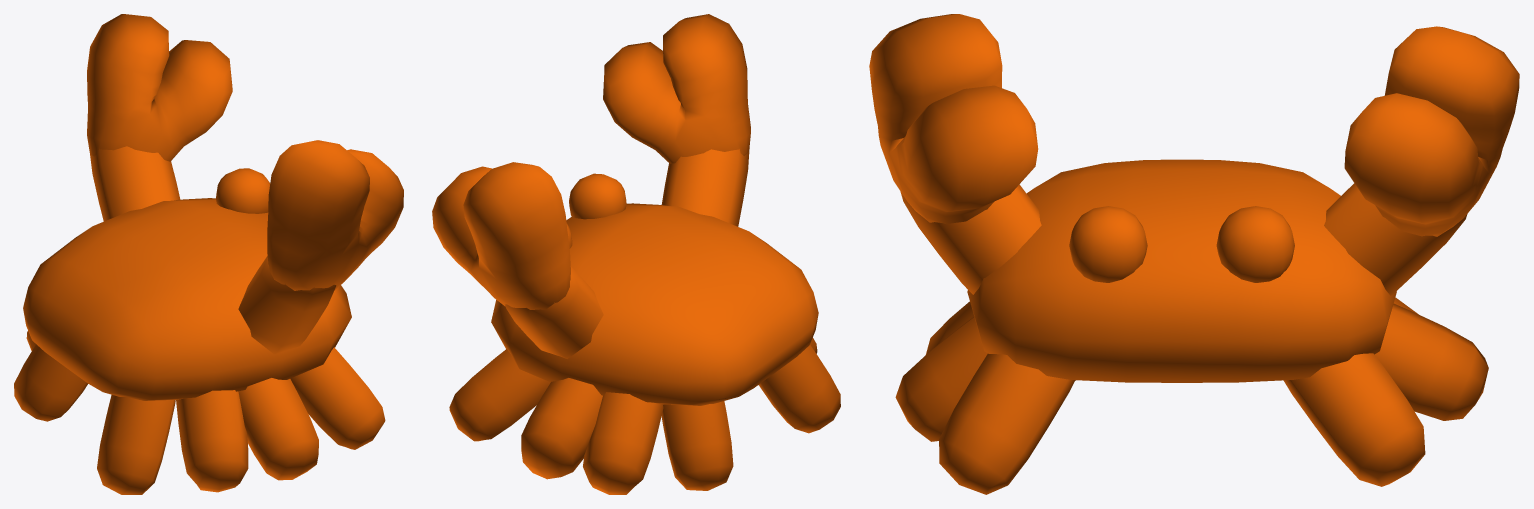
File: KM_Crab01.fbx
The picture shows the model from 3 angles, left to right: view 1: azimuth 30°, elevation 25°; view 2: azimuth 150°, elevation 25°; view 3: azimuth 270°, elevation 25°; orthographic projection. The views are drawn at different scales.
Visible parts, largest first — view 1: crab; view 2: crab; view 3: crab.
Part boxes in pixels (left/top/right/bottom): crab: left=14, top=14, right=403, bottom=494; crab: left=432, top=14, right=840, bottom=494; crab: left=869, top=14, right=1519, bottom=494.
Size of the model in its own units: 0.1028 by 0.1293 by 0.1635.
